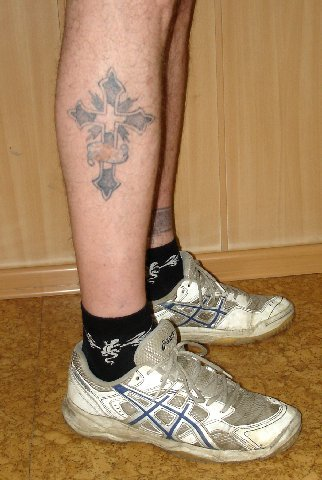tatu9_krest: (70, 66, 153, 201)
